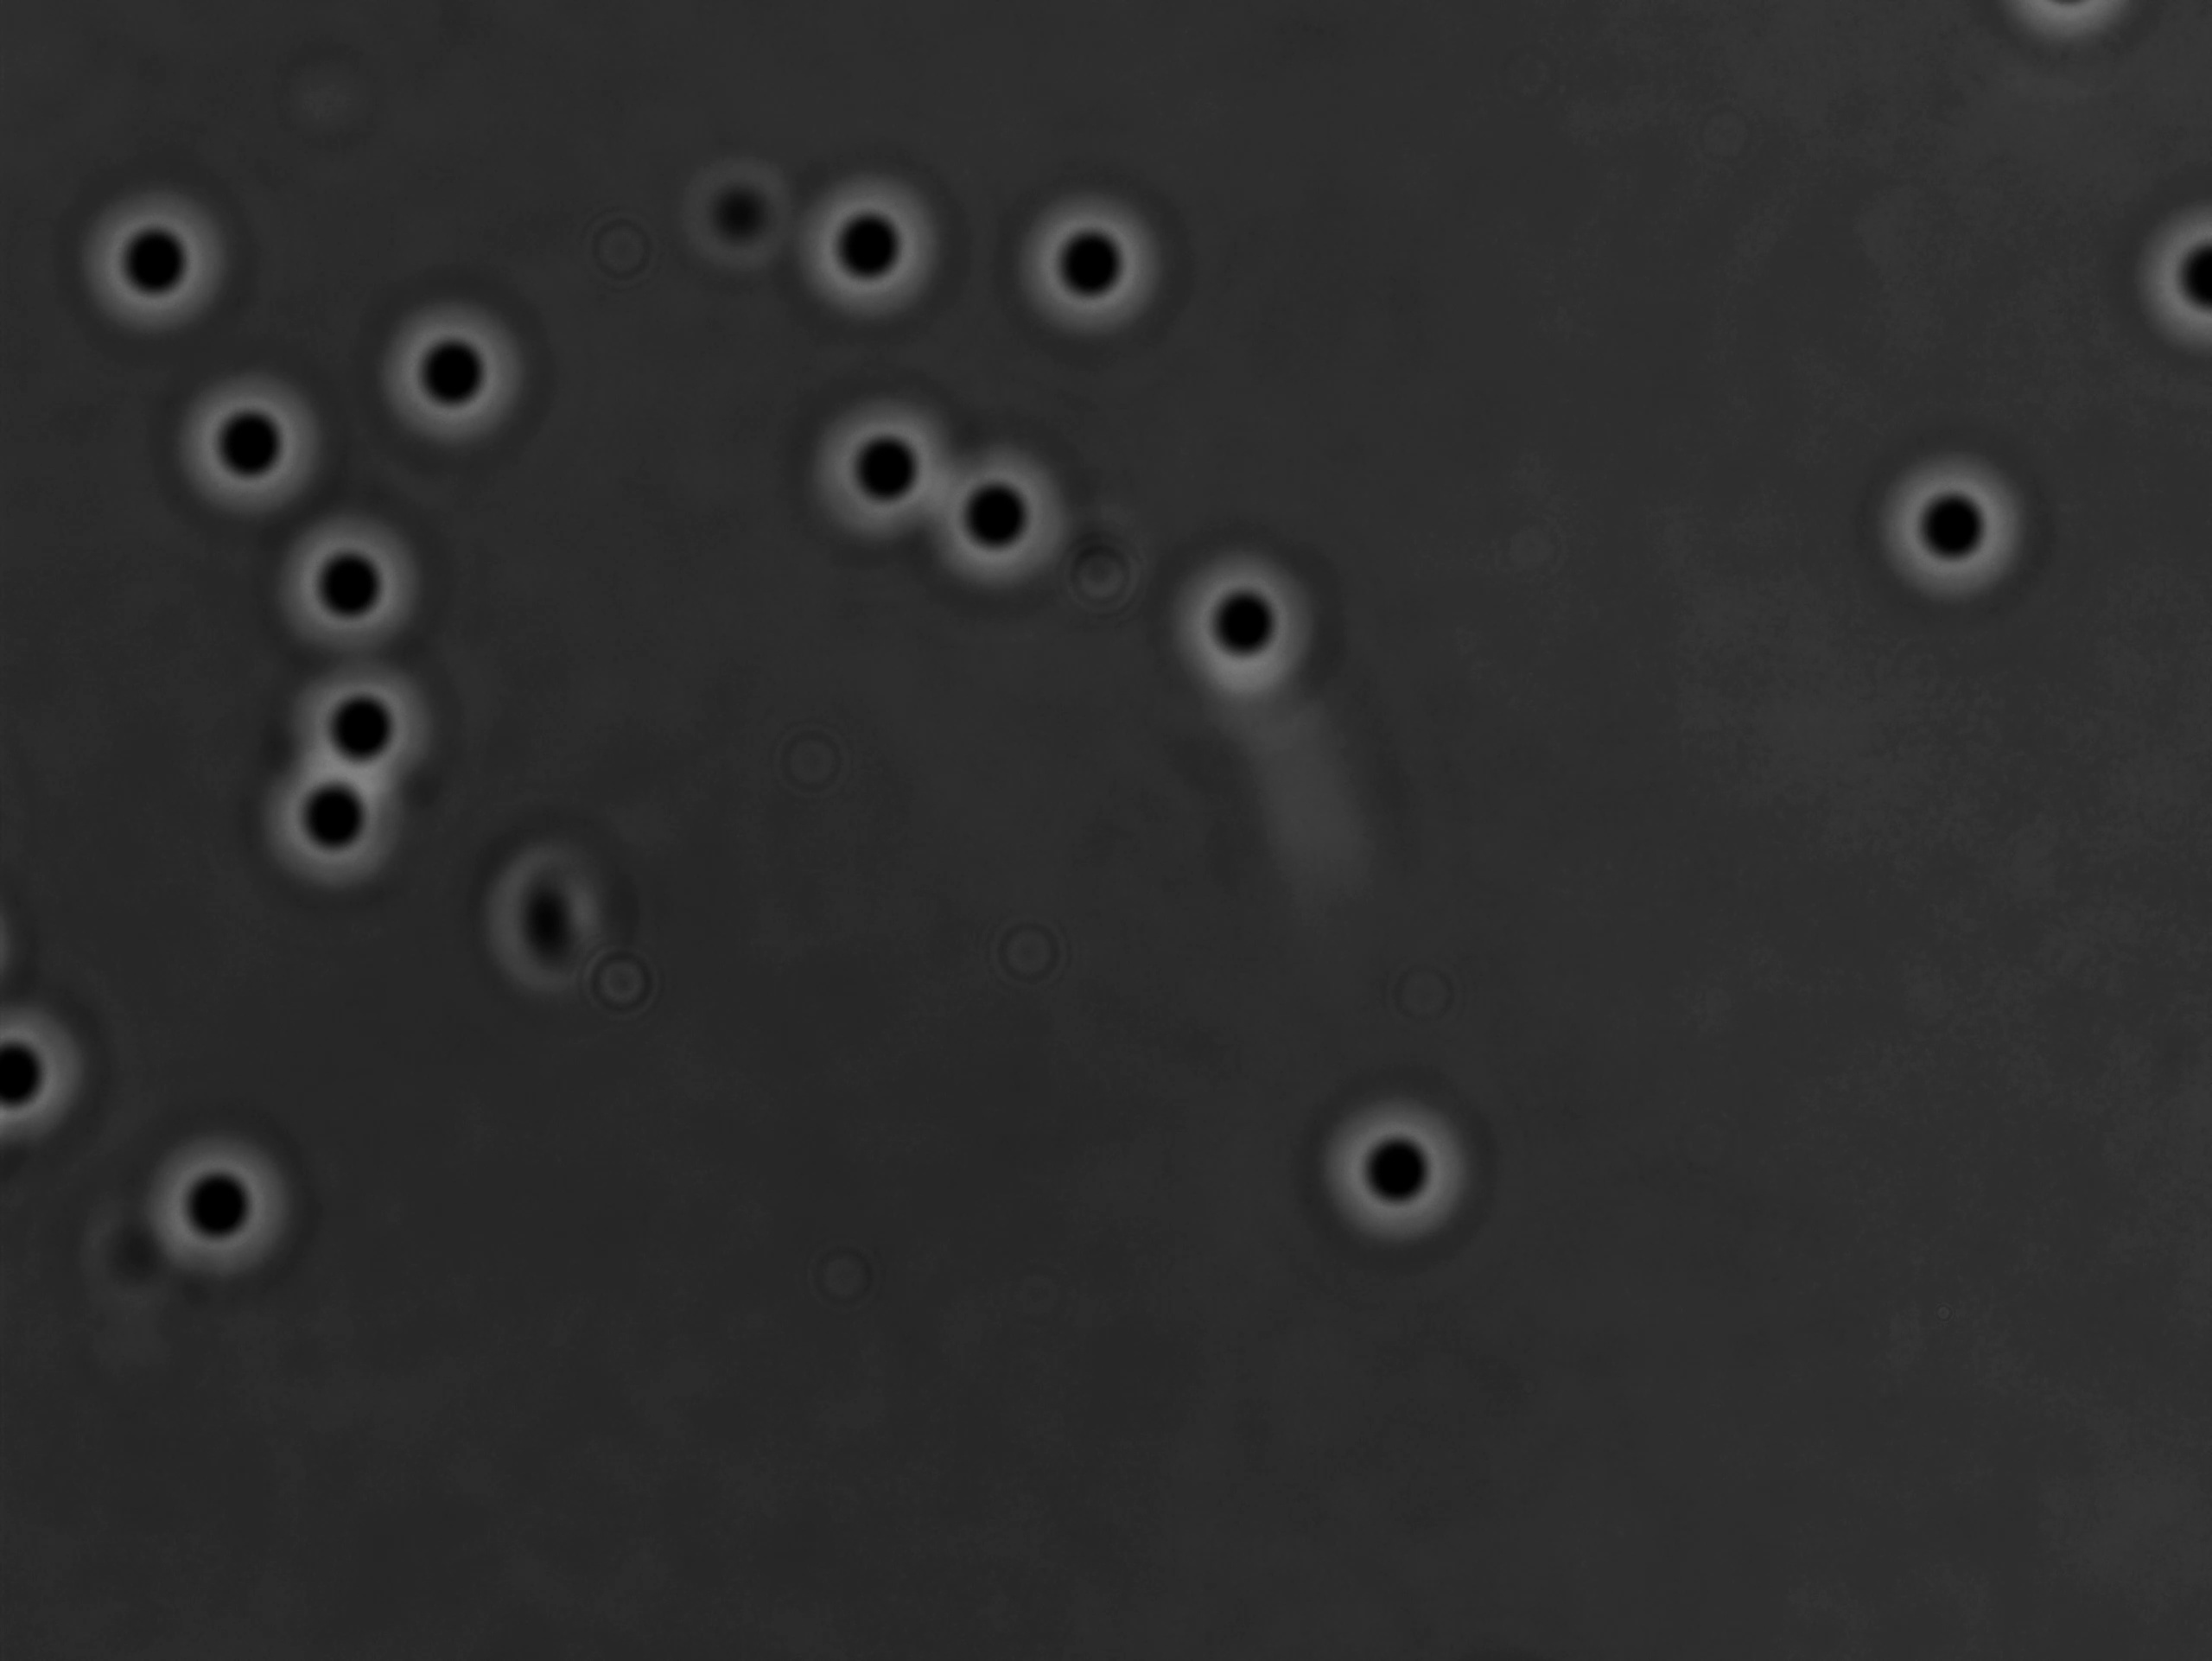depth:-80: (1863, 434, 2045, 635), (117, 1127, 309, 1307), (1289, 1080, 1486, 1253), (1151, 539, 1324, 715), (1014, 180, 1191, 351), (274, 646, 455, 811), (780, 157, 951, 330), (799, 387, 965, 562), (65, 171, 241, 335), (258, 736, 429, 902), (368, 302, 546, 461), (916, 433, 1082, 602), (159, 361, 331, 522), (263, 508, 440, 660)
